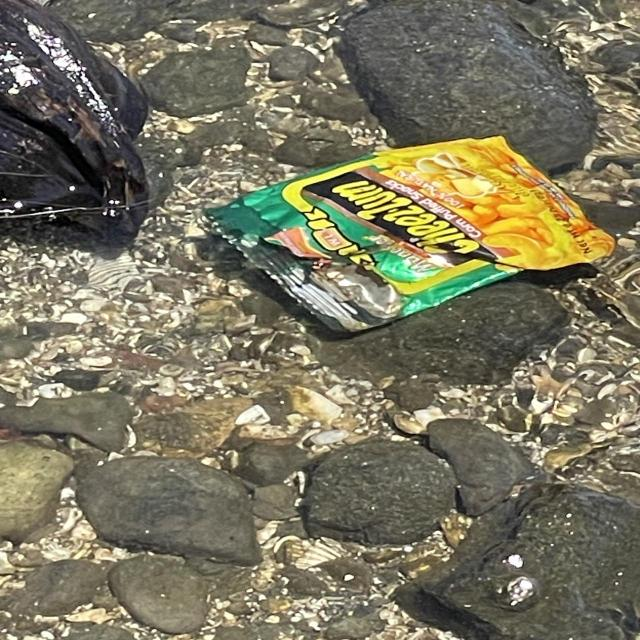plastic_waste: (205, 136, 619, 336)
